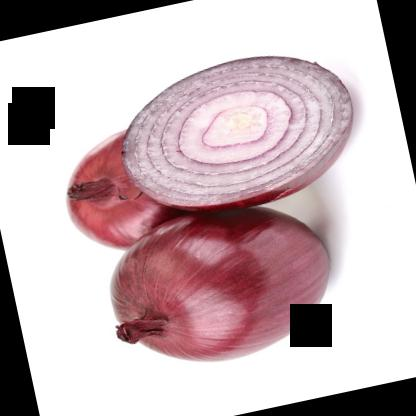onion: (107, 36, 374, 228), (92, 186, 354, 380), (52, 104, 258, 262)
